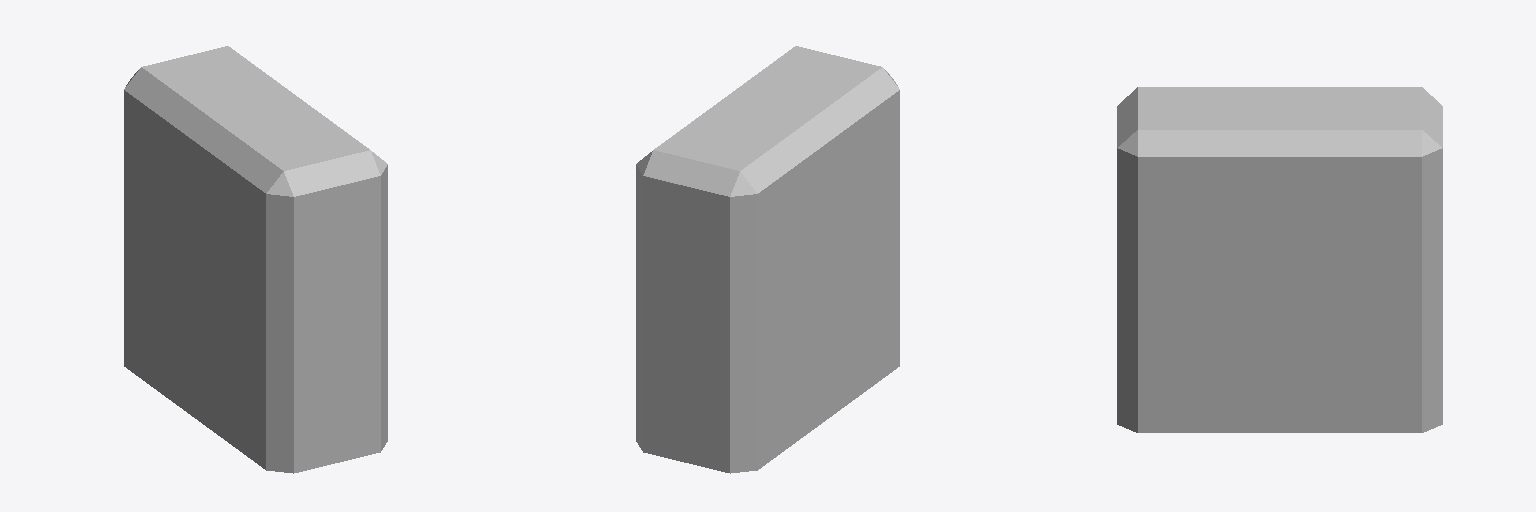
The model's file is wall.obj.
The picture shows the model from 3 angles: view 1: azimuth 30°, elevation 25°; view 2: azimuth 150°, elevation 25°; view 3: azimuth 270°, elevation 25°; orthographic projection.
Visible parts, largest first — view 1: Cube.003_Cube.002; view 2: Cube.003_Cube.002; view 3: Cube.003_Cube.002.
Boxes of the visible parts, x1,y1,x2,y2 form: Cube.003_Cube.002: [124, 46, 387, 473]; Cube.003_Cube.002: [636, 46, 899, 473]; Cube.003_Cube.002: [1117, 87, 1442, 432].
Size of the model in its own units: 0.8658 by 2 by 2.